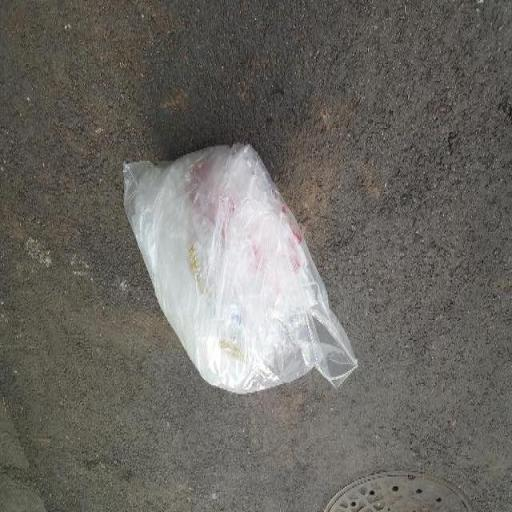plastic-bag: (121, 144, 359, 394)
